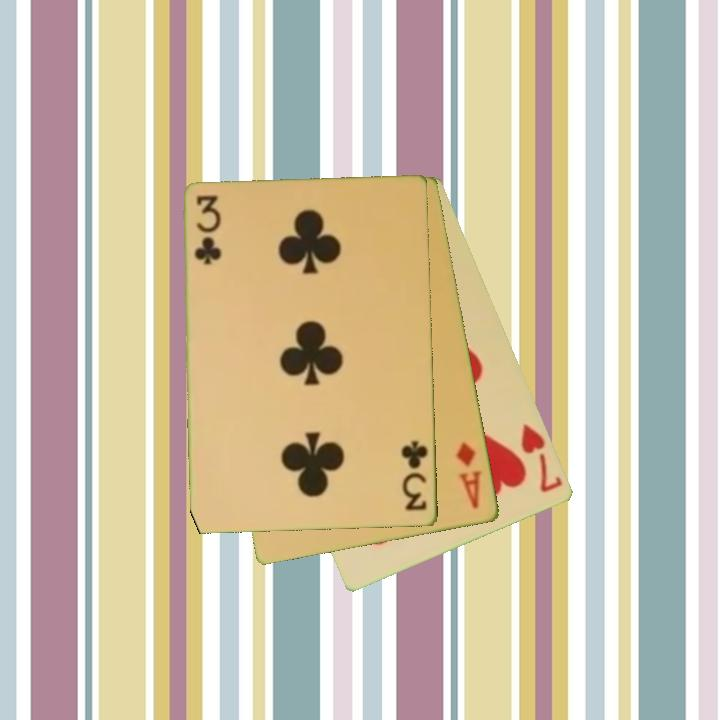3c: (398, 437, 432, 514), (191, 192, 220, 268)
7h: (517, 420, 566, 496)
Ad: (453, 439, 486, 512)
